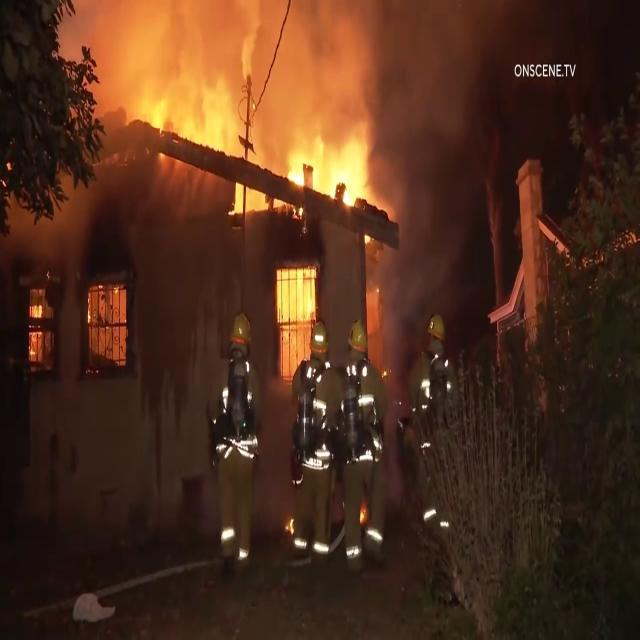Fire: (286, 142, 373, 236), (170, 118, 244, 183), (82, 291, 128, 369), (279, 268, 313, 369), (26, 298, 48, 358), (288, 512, 298, 542), (359, 506, 367, 528)
Smoke: (151, 0, 503, 96), (416, 130, 462, 264)
